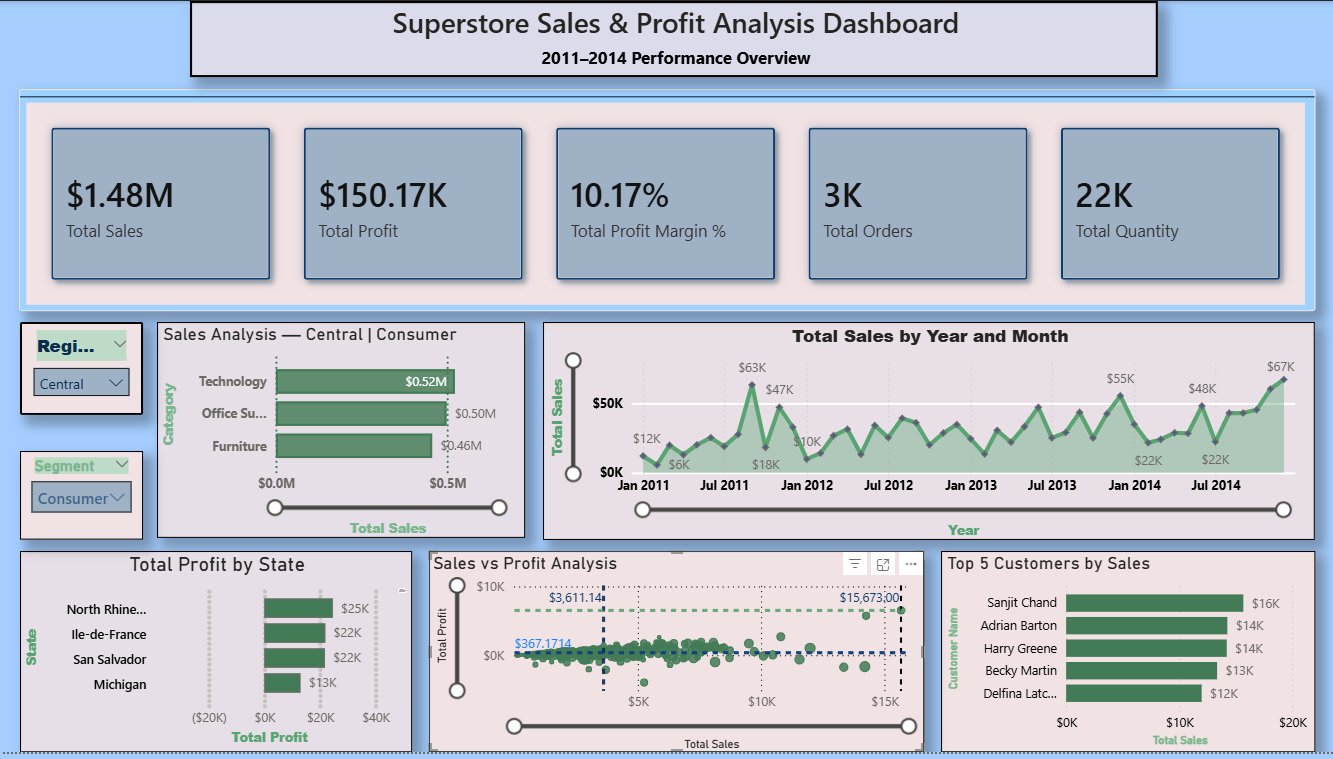

This screenshot's page, from the dashboard's own definition file:
{"tool":"powerbi","page":{"name":"Page 1","canvas":[1280,720],"ordinal":0},"visuals":[{"type":"cardVisual","fields":{"Data":["Measures Table.Total Sales","Measures Table.Total Profit","Measures Table.Total Profit Margin %","Measures Table.Total Orders","Measures Table.Total Quantity"]},"box":[18.7,84,1242.7,213.1],"z":0},{"type":"clusteredBarChart","fields":{"Category":["SuperStoreOrders.Category"],"Y":["Measures Table.Total Sales"]},"box":[150.6,307.5,352.9,207.1],"z":1000},{"type":"clusteredBarChart","fields":{"Category":["Dim_Location.State"],"Y":["Measures Table.Total Profit"]},"box":[18.8,527.1,376.5,192.9],"z":2000},{"type":"lineChart","fields":{"Y":["Measures Table.Total Sales"],"Category":["SuperStoreOrders.Order Date.Variation.Date Hierarchy.Year","SuperStoreOrders.Order Date.Variation.Date Hierarchy.Month"]},"box":[520.8,307.5,740.4,208.6],"z":3000},{"type":"slicer","title":"Slicer","fields":{"Values":["Dim_Location.Region"]},"box":[18.8,307.5,117.6,89.4],"z":4000},{"type":"textbox","title":"Superstore Sales & Profit Analysis Dashboard","box":[182.2,0,927.8,73.5],"z":5000},{"type":"slicer","fields":{"Values":["Dim_Customers.Segment"]},"box":[18.8,431.4,117.6,84.7],"z":6000},{"type":"clusteredBarChart","title":"Top 5 Customers by Sales","fields":{"Category":["Dim_Customers.Customer Name"],"Y":["Measures Table.Total Sales"]},"box":[902,527.1,359.2,192.9],"z":7000},{"type":"scatterChart","title":"Sales vs Profit Analysis","fields":{"X":["Measures Table.Total Sales"],"Y":["Measures Table.Total Profit"],"Size":["Measures Table.Total Quantity"],"Category":["Dim_Customers.Customer Name"]},"box":[411,527.1,475.3,192.9],"z":8000}]}

Visuals, with their boxes in screenshot pixels (x1, y1, x2, y2), scaled from the page's 1280x720 canvas onto the 1333x759 screenshot:
cardVisual - Measures Table.Total Sales x Measures Table.Total Profit: pyautogui.locateOnScreen(19, 89, 1314, 313)
clusteredBarChart - SuperStoreOrders.Category x Measures Table.Total Sales: pyautogui.locateOnScreen(157, 324, 524, 542)
clusteredBarChart - Dim_Location.State x Measures Table.Total Profit: pyautogui.locateOnScreen(20, 556, 412, 758)
lineChart - Measures Table.Total Sales x SuperStoreOrders.Order Date.Variation.Date Hierarchy.Year: pyautogui.locateOnScreen(542, 324, 1313, 544)
"Slicer" slicer: pyautogui.locateOnScreen(20, 324, 142, 418)
"Superstore Sales & Profit Analysis Dashboard" textbox: pyautogui.locateOnScreen(190, 0, 1156, 77)
slicer - Dim_Customers.Segment: pyautogui.locateOnScreen(20, 455, 142, 544)
"Top 5 Customers by Sales" clusteredBarChart: pyautogui.locateOnScreen(939, 556, 1313, 758)
"Sales vs Profit Analysis" scatterChart: pyautogui.locateOnScreen(428, 556, 923, 758)
